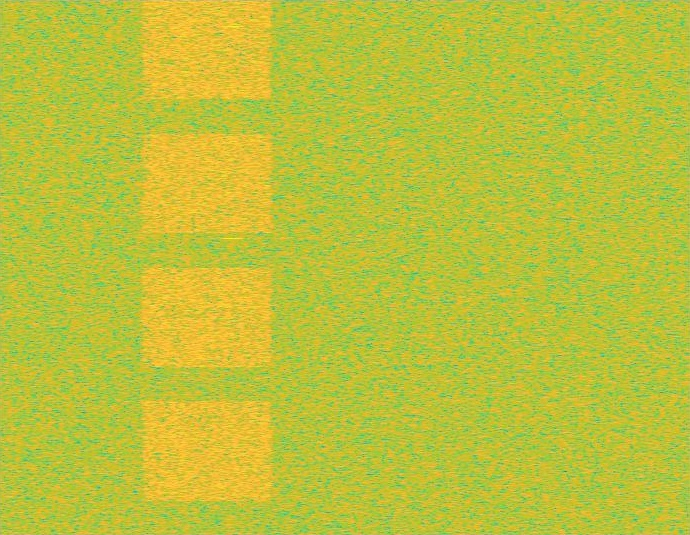5G: (138, 0, 276, 534)
Radar: (225, 0, 239, 534)
